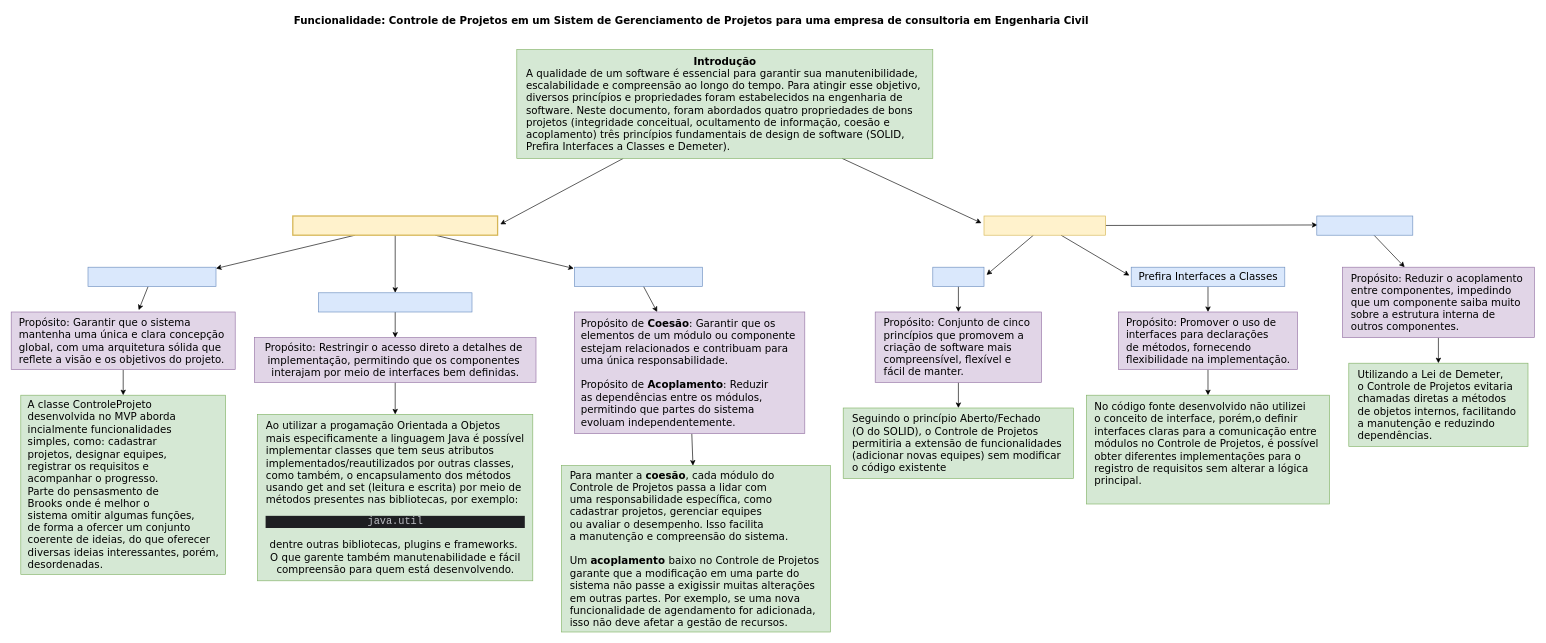
The diagram is 1546 pixels wide and 643 high, and some of its shapes have lost their labels. The shapes that lost their labels are listed below. From the top down, each one's box as (x1, y1, x2, y2) in pixels, then its label:
(292, 215, 498, 236): propriedades de projetos de software
(983, 215, 1106, 235): princípios de projeto
(1316, 215, 1413, 235): Lei de Demeter
(87, 267, 216, 286): integridade conceitual
(574, 267, 702, 286): coesão e acoplamento
(932, 267, 984, 286): SOLID
(318, 292, 472, 312): ocultamento de informação
